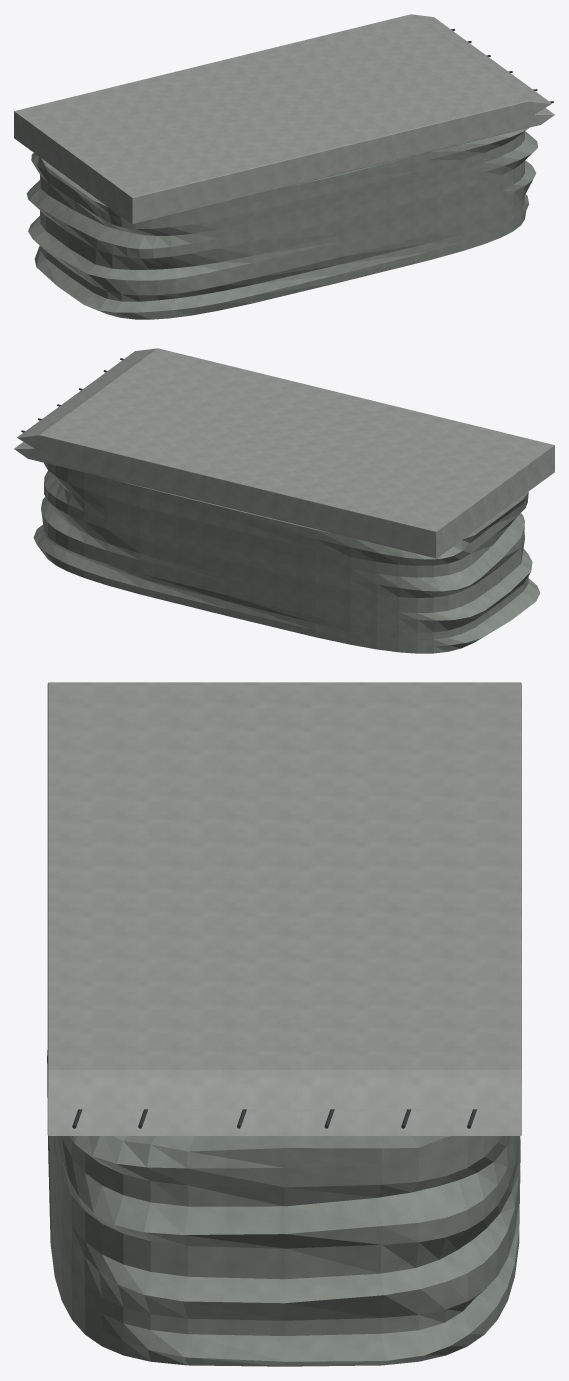
The model's file is gorgehold-survivor-gallery-and-operations-broken-road--4f919bef__32879.glb.
3 renders of one model, top to bottom at view 1: azimuth 30°, elevation 25°; view 2: azimuth 150°, elevation 25°; view 3: azimuth 270°, elevation 25°, orthographic. The views are drawn at different scales.
Parts seen in each view (by area): view 1: broken-road-deck; view 2: broken-road-deck; view 3: broken-road-deck.
Boxes of the visible parts, x1=… form: broken-road-deck: x1=14, y1=14, x2=554, y2=319; broken-road-deck: x1=14, y1=348, x2=554, y2=653; broken-road-deck: x1=47, y1=682, x2=521, y2=1366.
Bounding box in the file's own units: 9.47 × 2.73 × 4.33.
3 materials, 2 textured.
